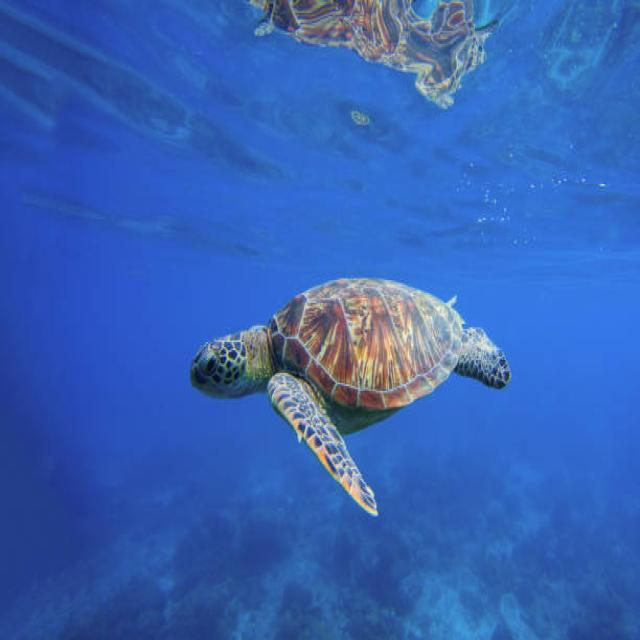sea turtle: (168, 250, 542, 531), (252, 352, 402, 517), (186, 315, 245, 413)
